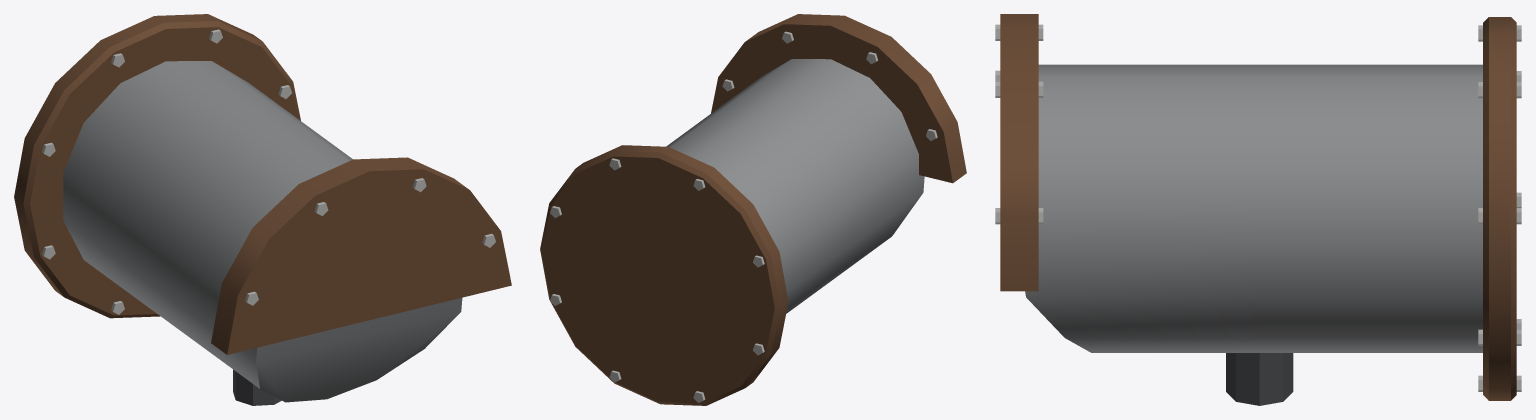
Rendered from pipe-straight-vertical.glb.
3 views of the same model, side by side, from view 1: azimuth 30°, elevation 25°; view 2: azimuth 150°, elevation 25°; view 3: azimuth 270°, elevation 25° (orthographic). The views are drawn at different scales.
Parts seen in each view (by area): view 1: body; view 2: body; view 3: body.
Part boxes in pixels (x1,y1,x2,y2): body: [14, 14, 511, 405]; body: [540, 14, 966, 405]; body: [995, 14, 1521, 405].
Bounding box in the file's own units: 0.812 × 0.826 × 1.1.
